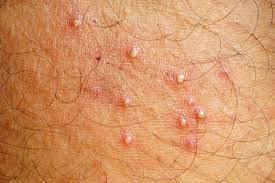folliculitis: (121, 38, 148, 69), (119, 128, 140, 156), (167, 69, 192, 91), (116, 89, 137, 114), (69, 12, 90, 37), (172, 113, 193, 133), (193, 107, 214, 123)
papular: (180, 134, 201, 169)
